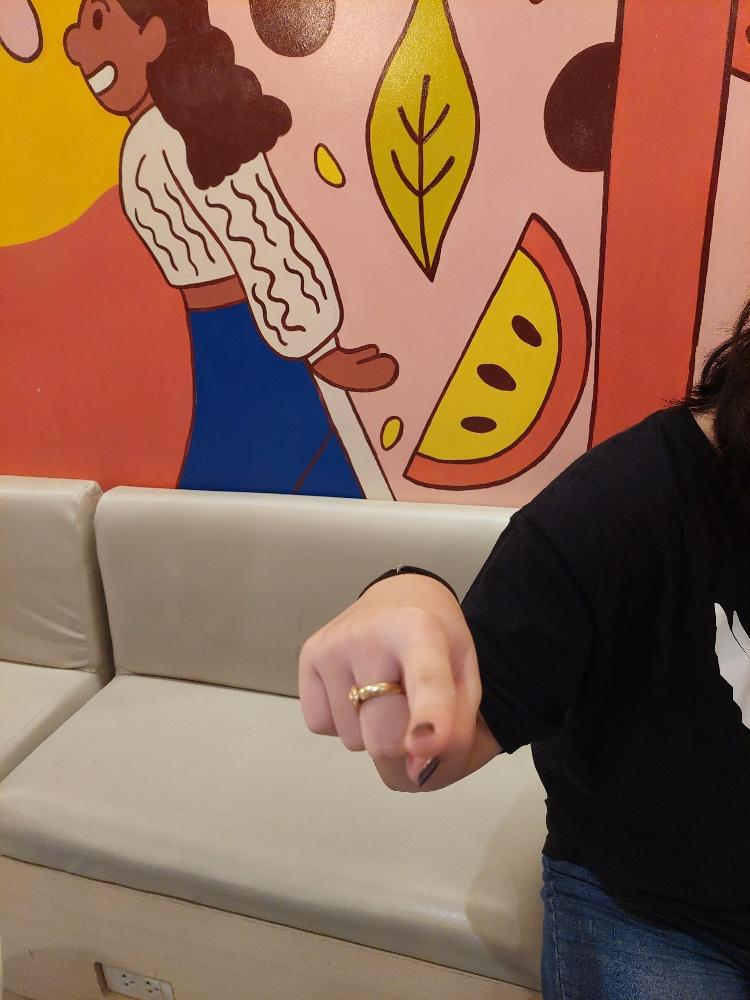z: (294, 566, 483, 792)
